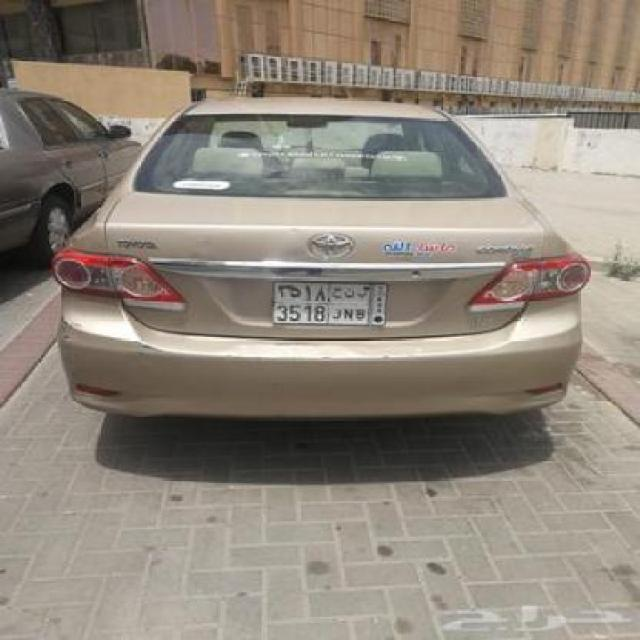license_plate: (268, 277, 390, 329)
